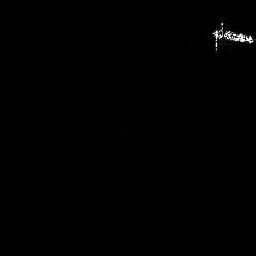ship: (211, 21, 254, 51)
